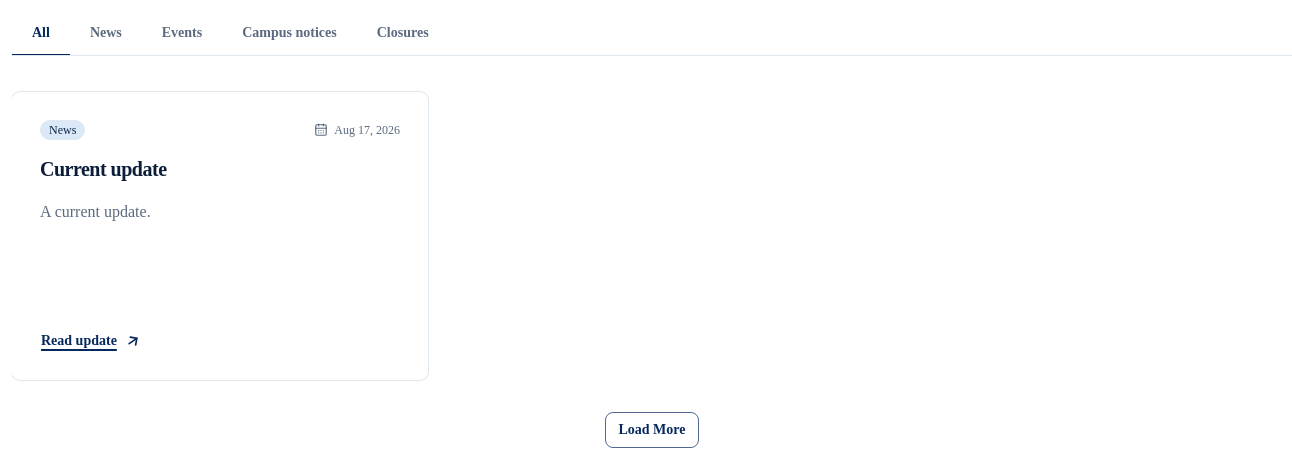
Scenario: News & Events Tabs › de-duplicates appended entries by public ID
The width and height of the screenshot is (1292, 465).
Step 1. Click the button "Load More" → (652, 430), box [606,412,698,448]
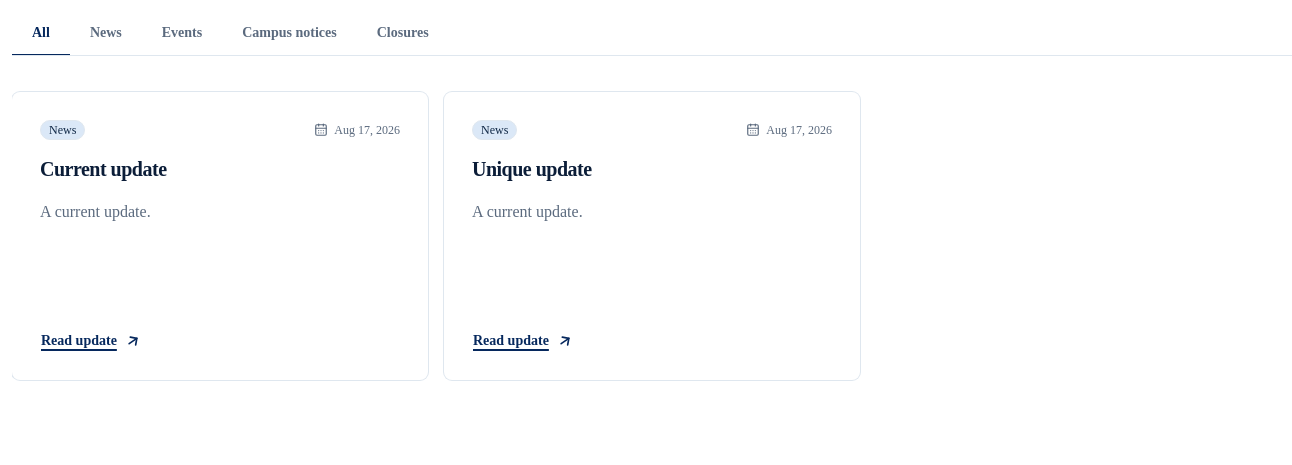
expect the number of headings "Current update" is 1: met, box [40,158,166,180]
expect the heading "Unique update" is shown: met, box [472,158,592,180]
